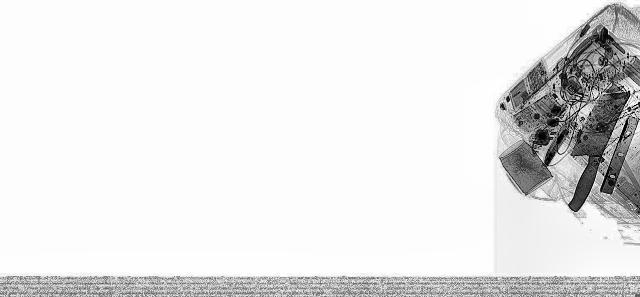Knife: (548, 90, 628, 212)
